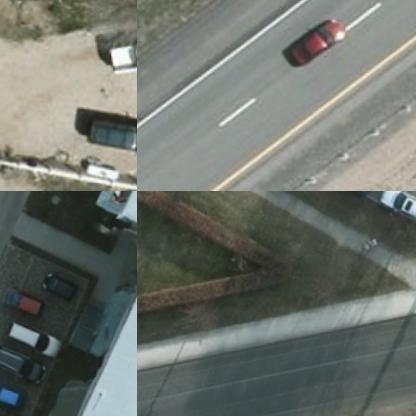car: (284, 4, 352, 65), (0, 337, 56, 383), (6, 312, 66, 354), (88, 103, 136, 153), (38, 263, 81, 298), (0, 371, 29, 407), (375, 191, 415, 217)
pickup: (110, 29, 136, 73)
